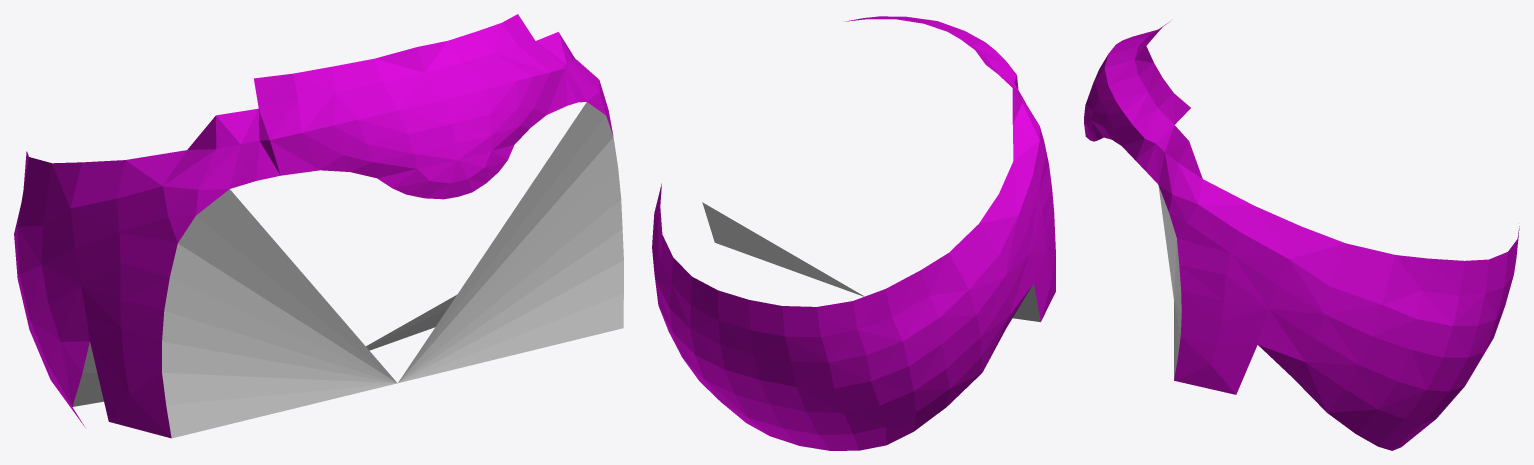
The picture shows the model from 3 angles, left to right: view 1: azimuth 30°, elevation 25°; view 2: azimuth 150°, elevation 25°; view 3: azimuth 270°, elevation 25°; orthographic projection. The views are drawn at different scales.
Visible parts, largest first — view 1: shape; view 2: shape; view 3: shape.
Part boxes in pixels (left/top/right/bottom): shape: left=14, top=14, right=623, bottom=438; shape: left=652, top=16, right=1055, bottom=450; shape: left=1084, top=21, right=1519, bottom=450.
Bounding box in the file's own units: 54.6 × 53.74 × 55.98.
